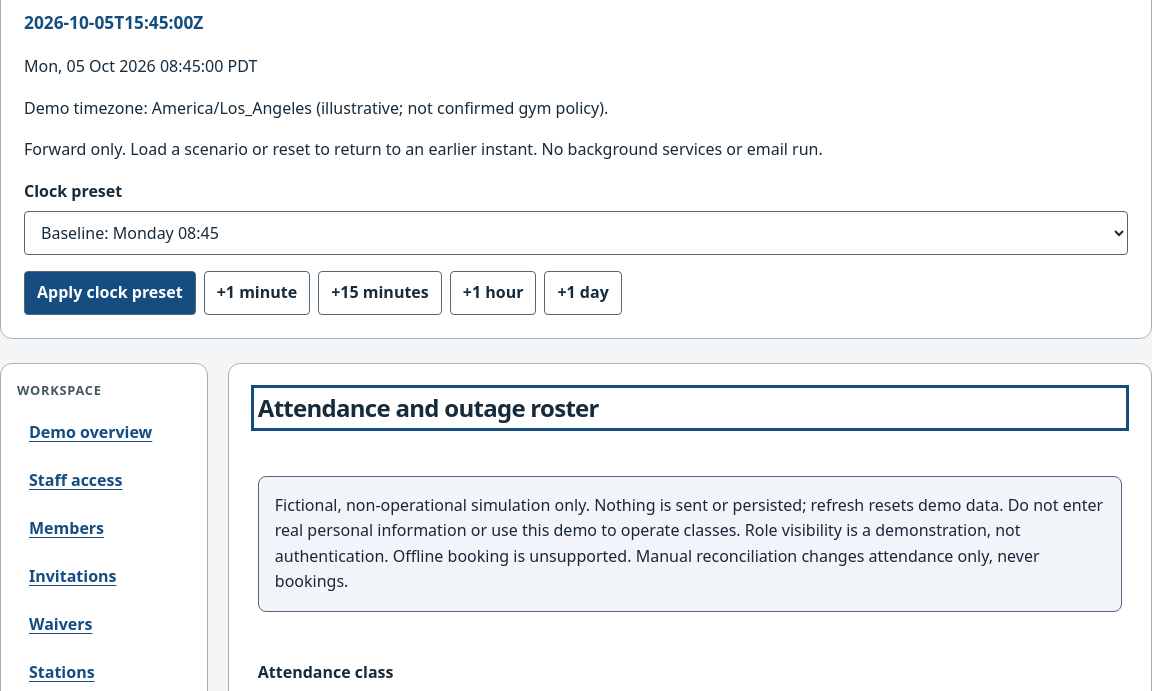
Test case: composed demo shell › keeps time frozen, applies named presets and forward steps, and visibly rejects backward presets without mutation
This screenshot has width=1152, height=691.
(page scrolled)
Select "Morning class ends: 09:45" in the dropdown labelled "Clock preset" at (576, 233), box [24,211,1128,255]
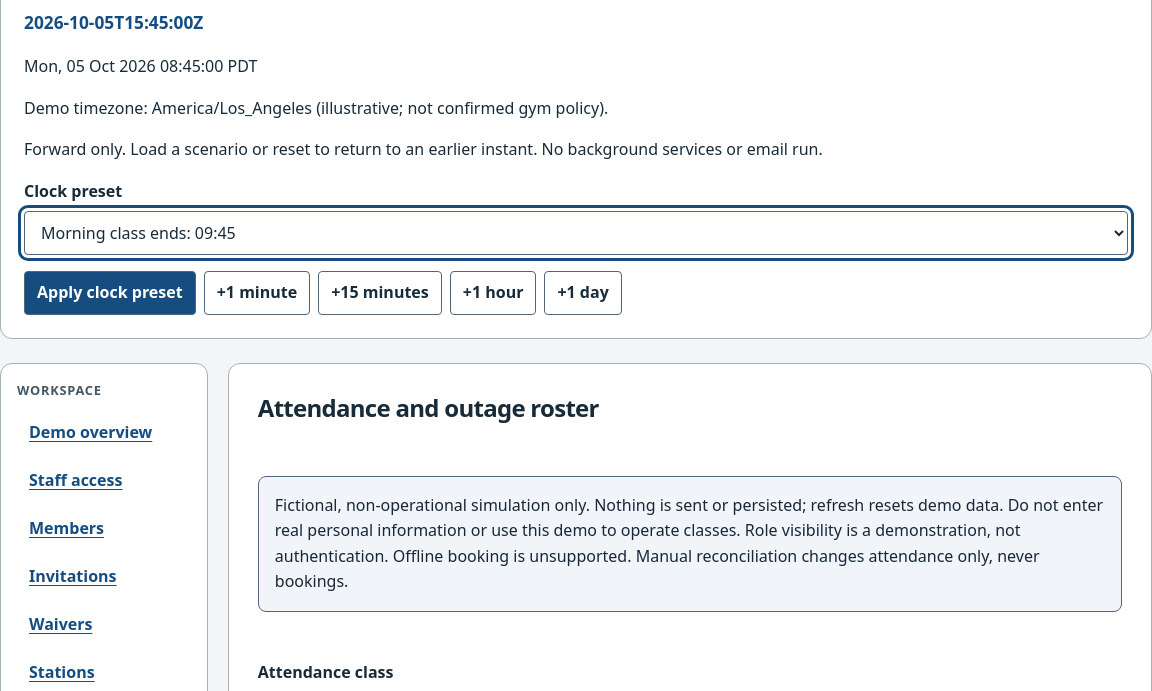
Click the button "Apply clock preset".
click(110, 293)  # box [24,271,196,315]
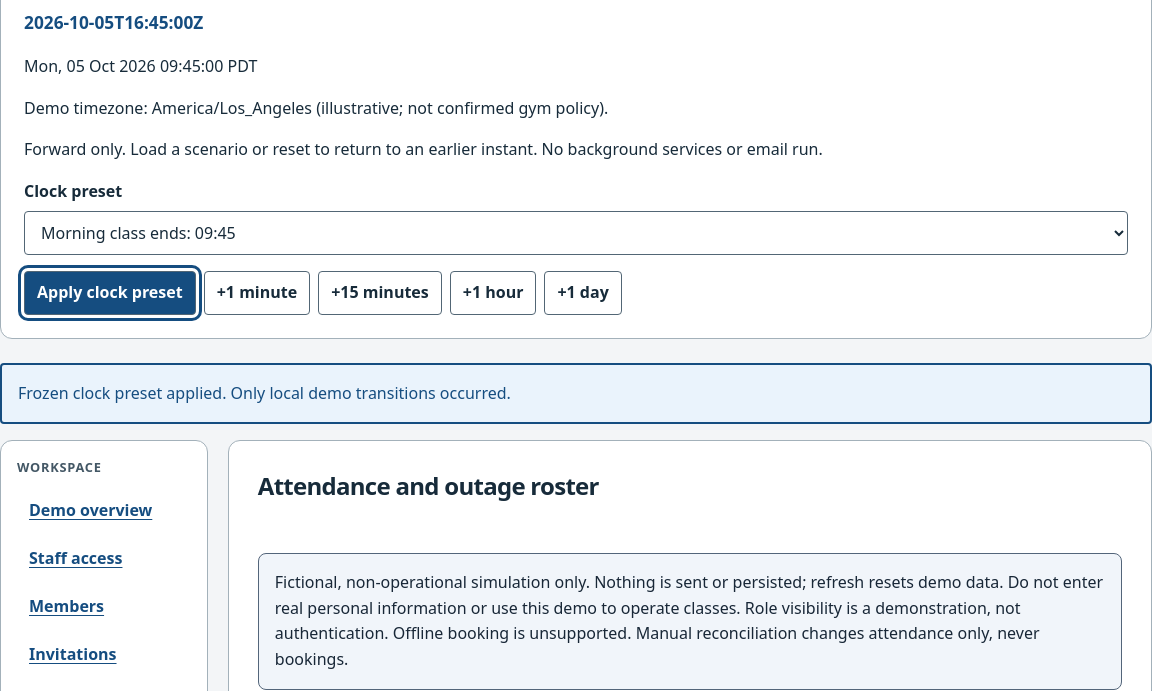
Expected: the text "2026-10-05T16:45:00Z" is shown, [24,11,203,34]
Click the button "+15 minutes".
click(380, 293)  # box [318,271,442,315]
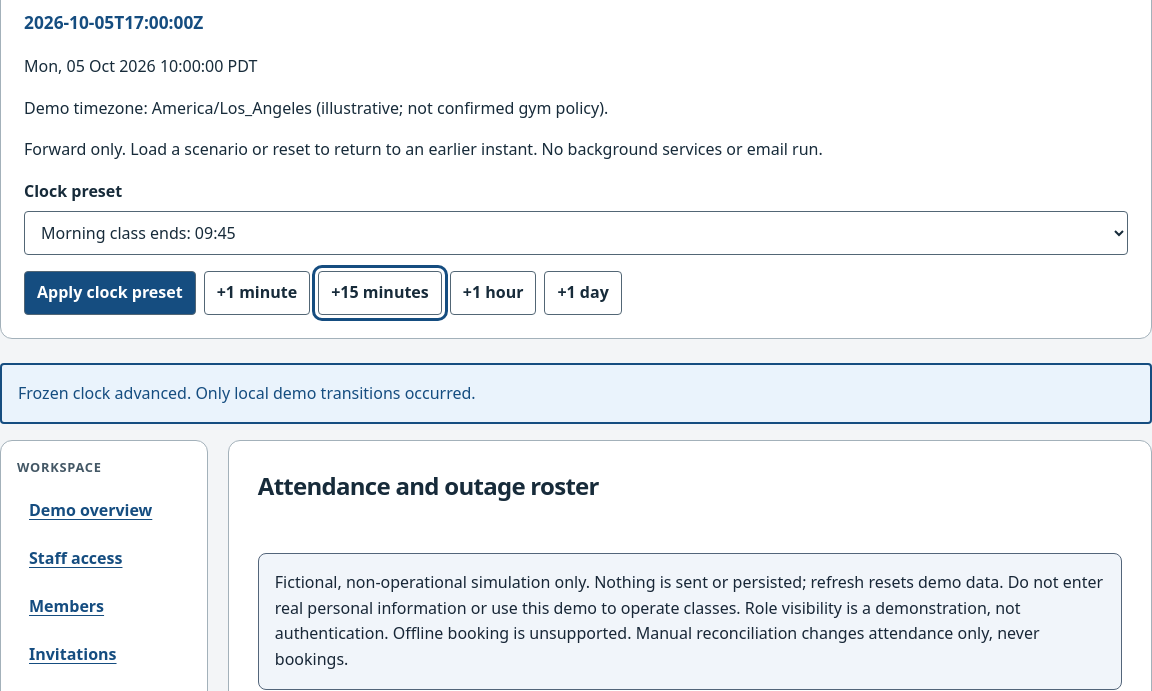
Select "Baseline: Monday 08:45" in the dropdown labelled "Clock preset" at (576, 233), box [24,211,1128,255]
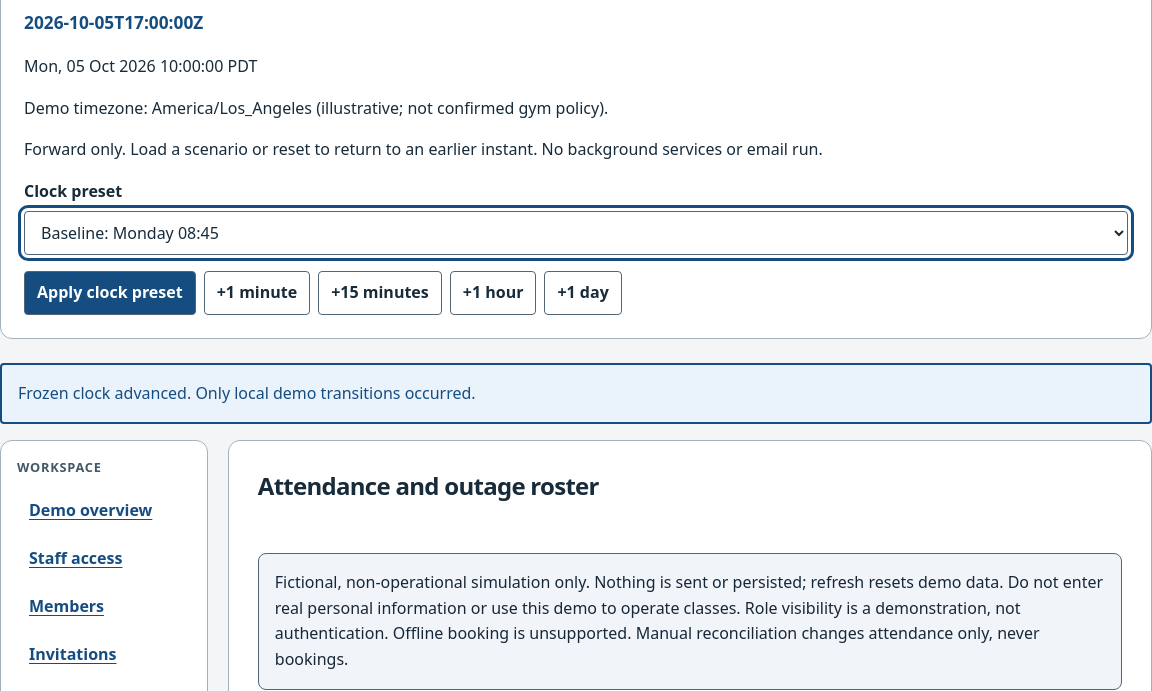
Click the button "Apply clock preset".
click(110, 293)  # box [24,271,196,315]
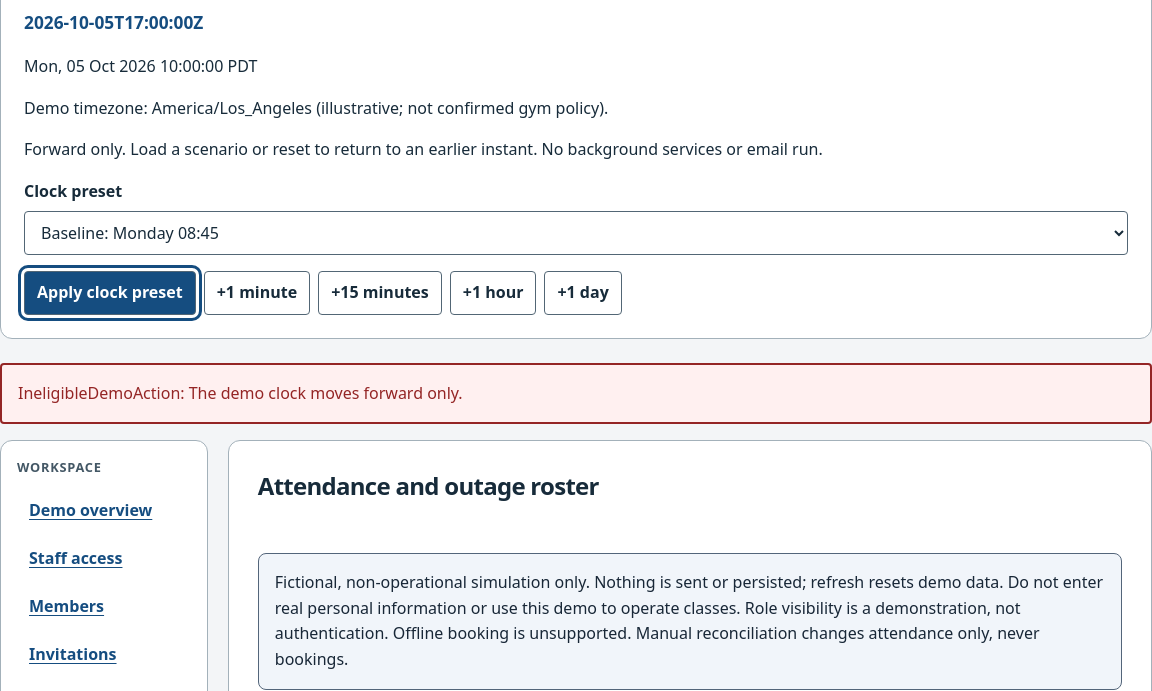
Expected: the message shows "The demo clock moves forward only.", [18,382,463,404]
